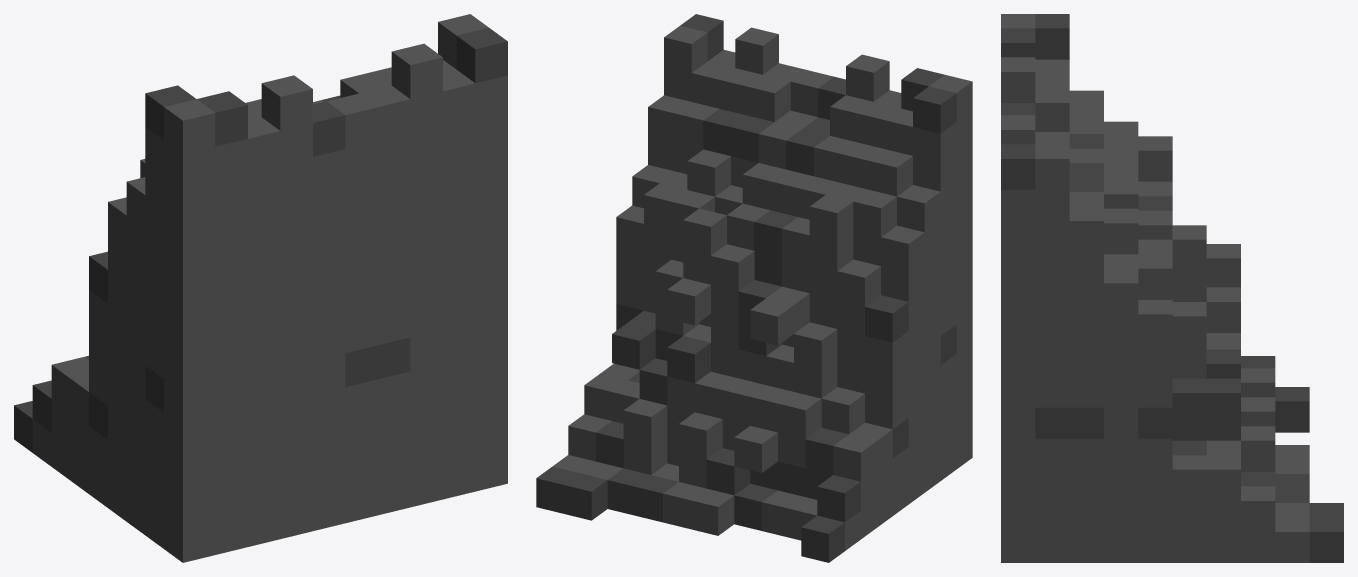
Rendered from Stein_Rand-02.obj.
3 views of the same model, side by side, from view 1: azimuth 30°, elevation 25°; view 2: azimuth 150°, elevation 25°; view 3: azimuth 270°, elevation 25° (orthographic). The views are drawn at different scales.
Size of the model in its own units: 1 by 1.3 by 1.
Materials: 1 (1 with a texture image).
